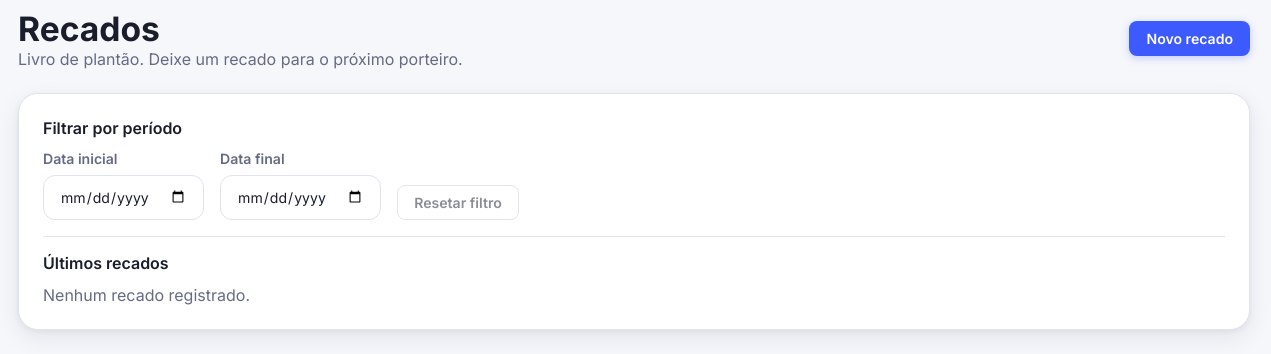
NoticesPage › disables Resetar filtro until a date is picked, then clears both fields when clicked
The image size is (1271, 354).
Expected: the button "Resetar filtro" is disabled, [397,185,519,220]
Type "2026-08-01" into the date field labelled "Data inicial" at (124, 198), box [43,175,204,220]
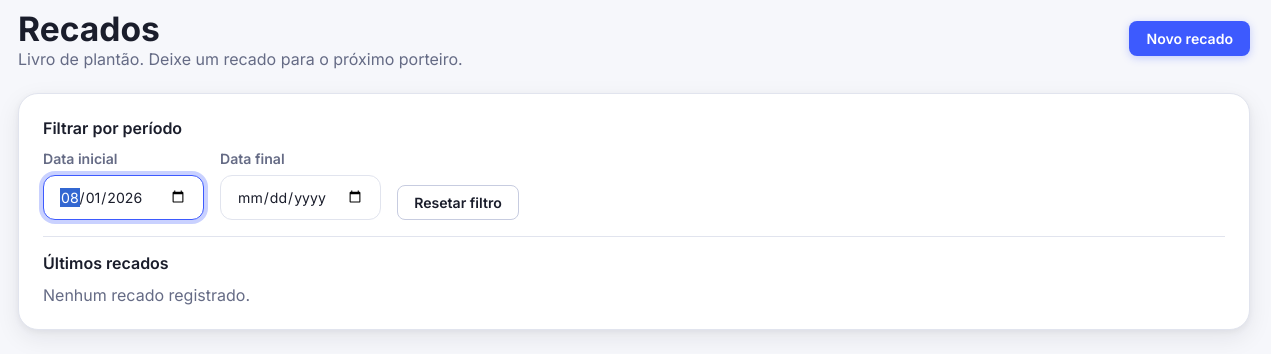
Result: the button "Resetar filtro" is enabled
Click the button "Resetar filtro" at (458, 202), box [397,185,519,220]
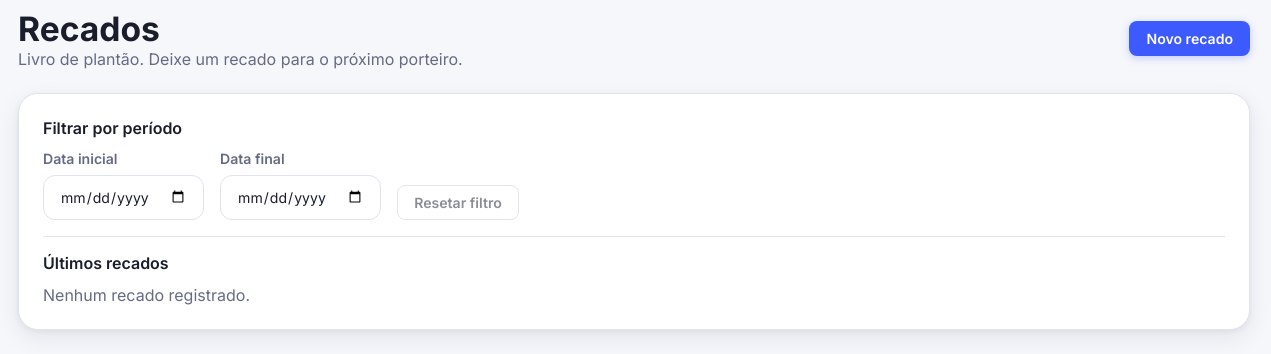
Result: the date field labelled "Data inicial" is empty at [43,175,204,220]
Result: the button "Resetar filtro" is disabled at [397,185,519,220]
